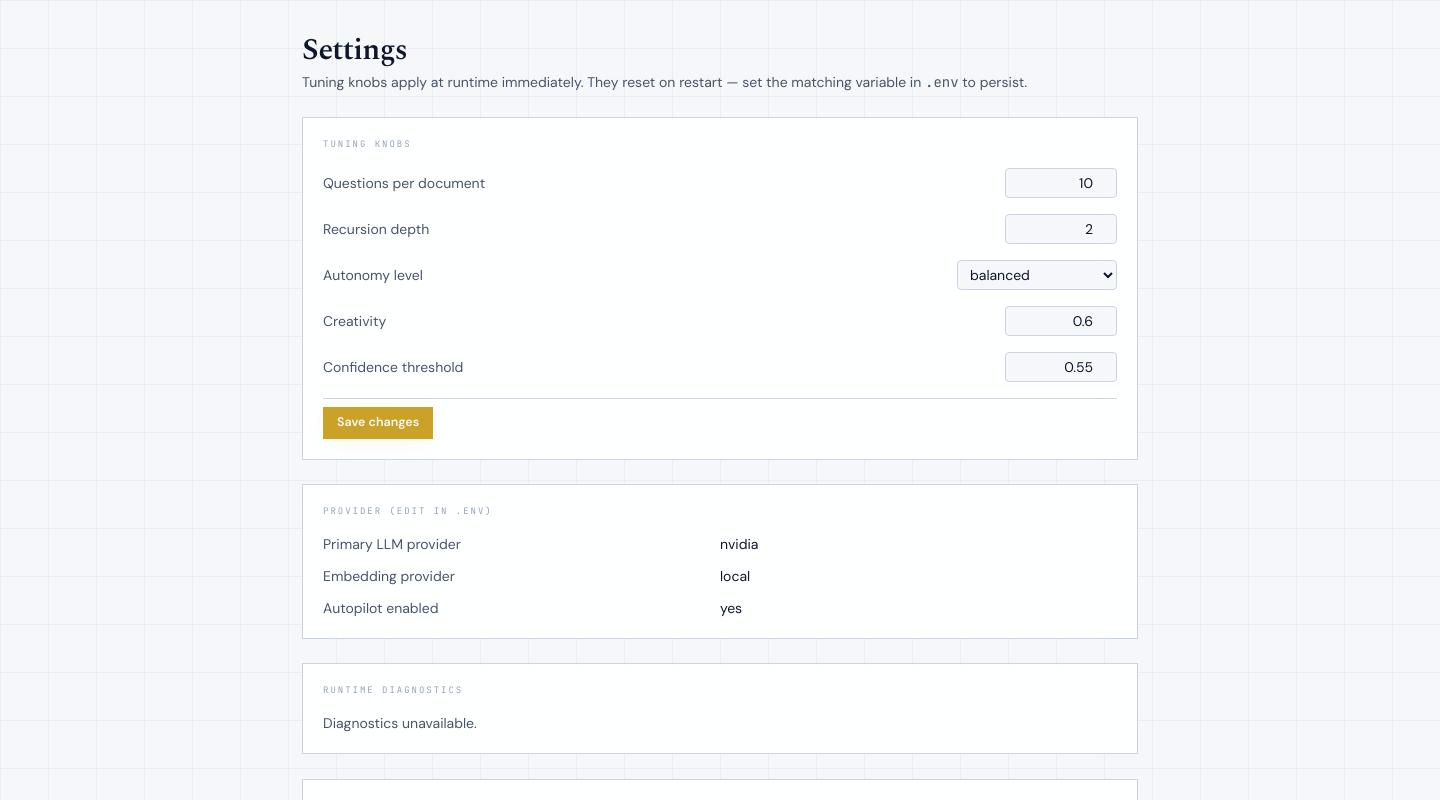
it: Settings page (writable) › loads config into editable fields and saves via POST /config
The image size is (1440, 800).
Note: the loaded creativity value appears in an editable number input
Replace the text in the number field showing "0.6" with "0.9" at (1061, 320), box [1005, 306, 1117, 336]
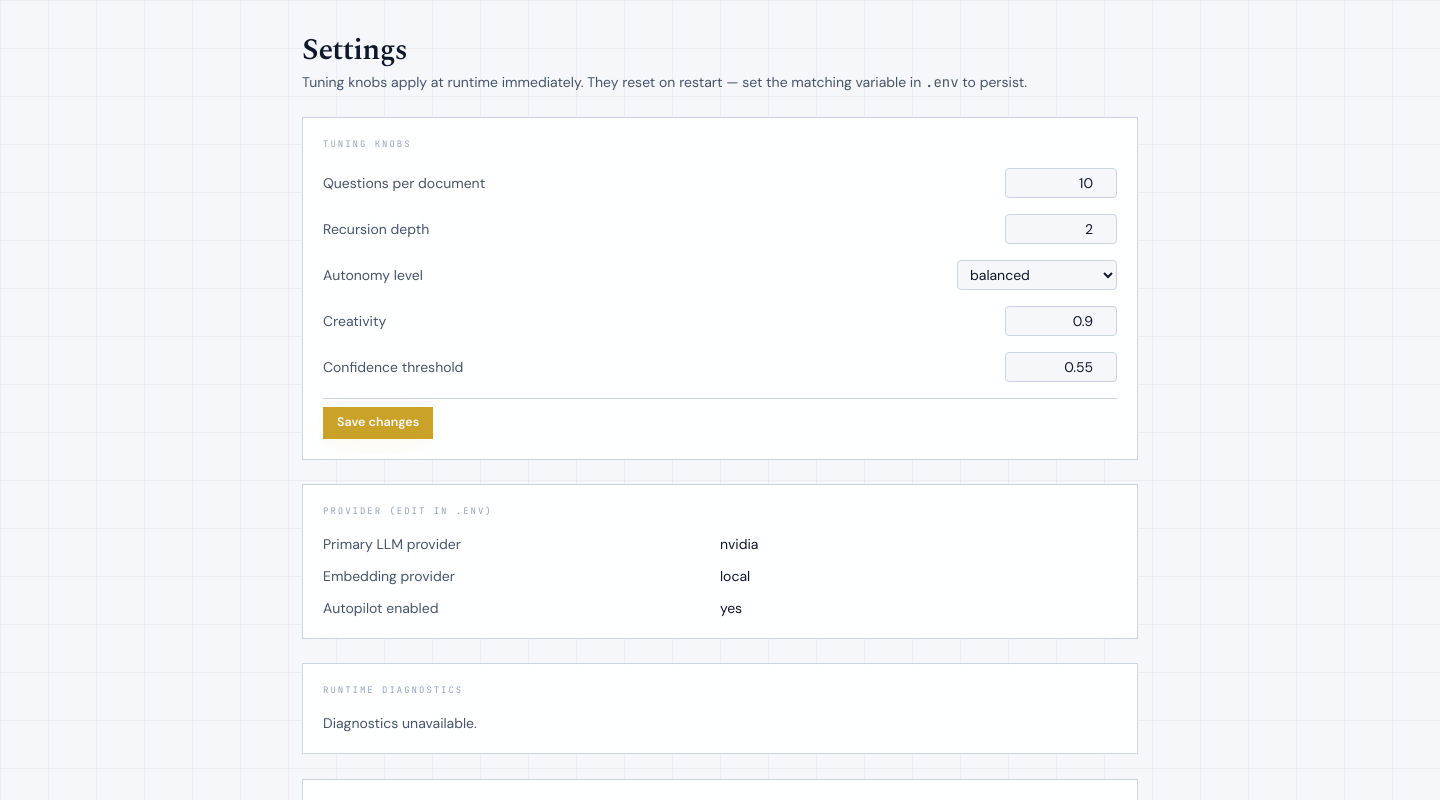
Click the button "Save changes".
click(378, 422)  # box [323, 406, 433, 438]
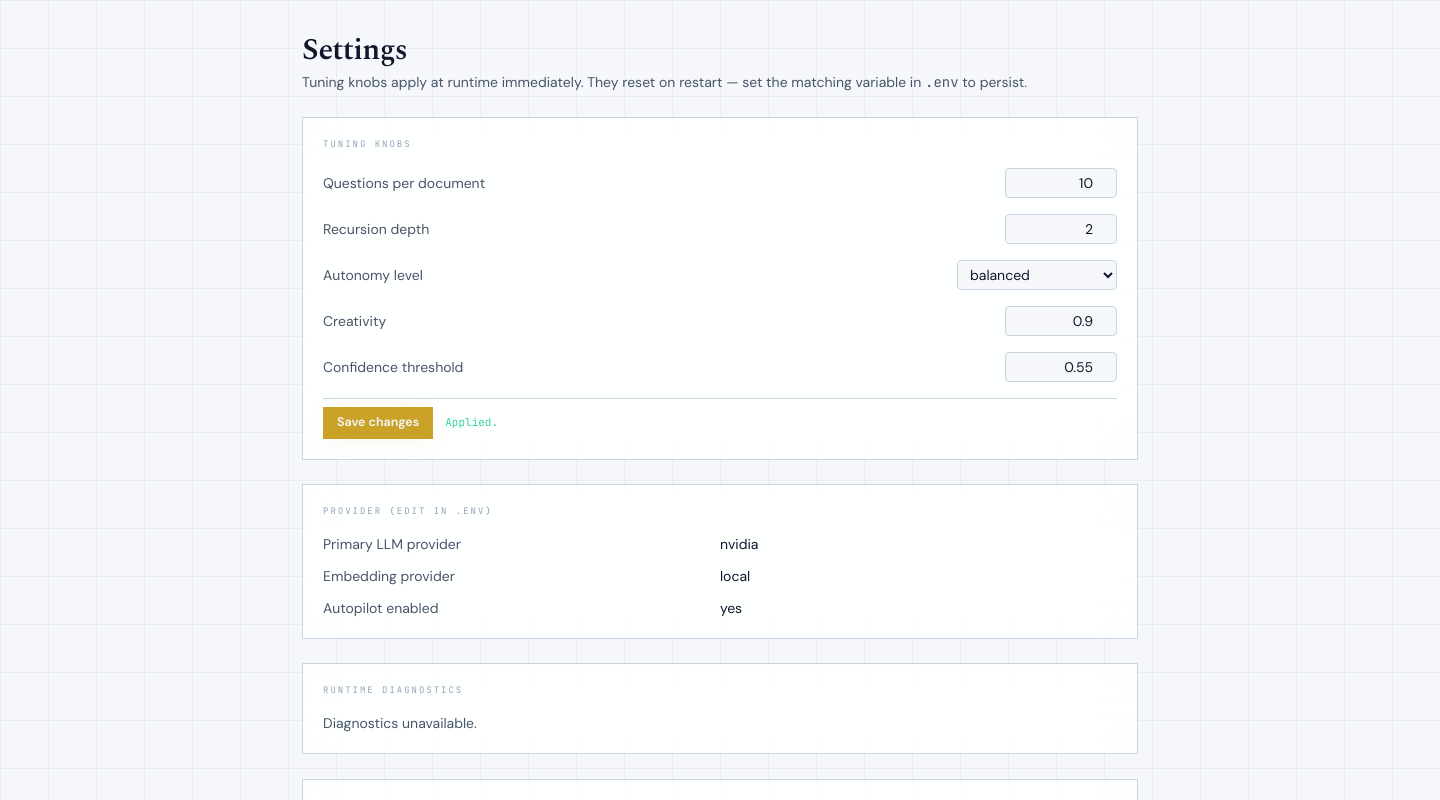
Now the text "Applied." is shown, box [445, 414, 498, 431]
